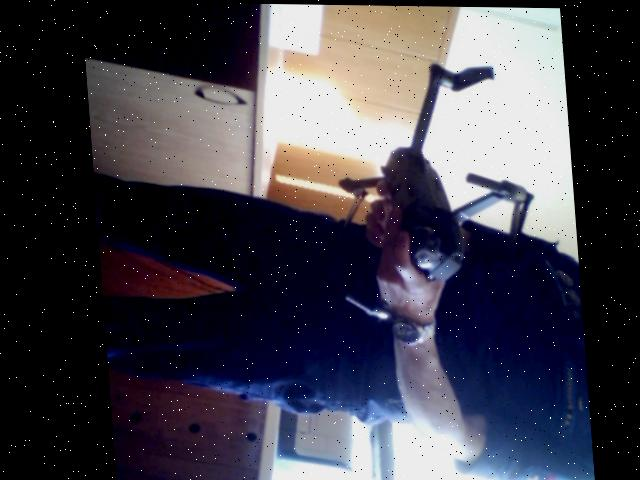drone: (313, 51, 537, 335)
